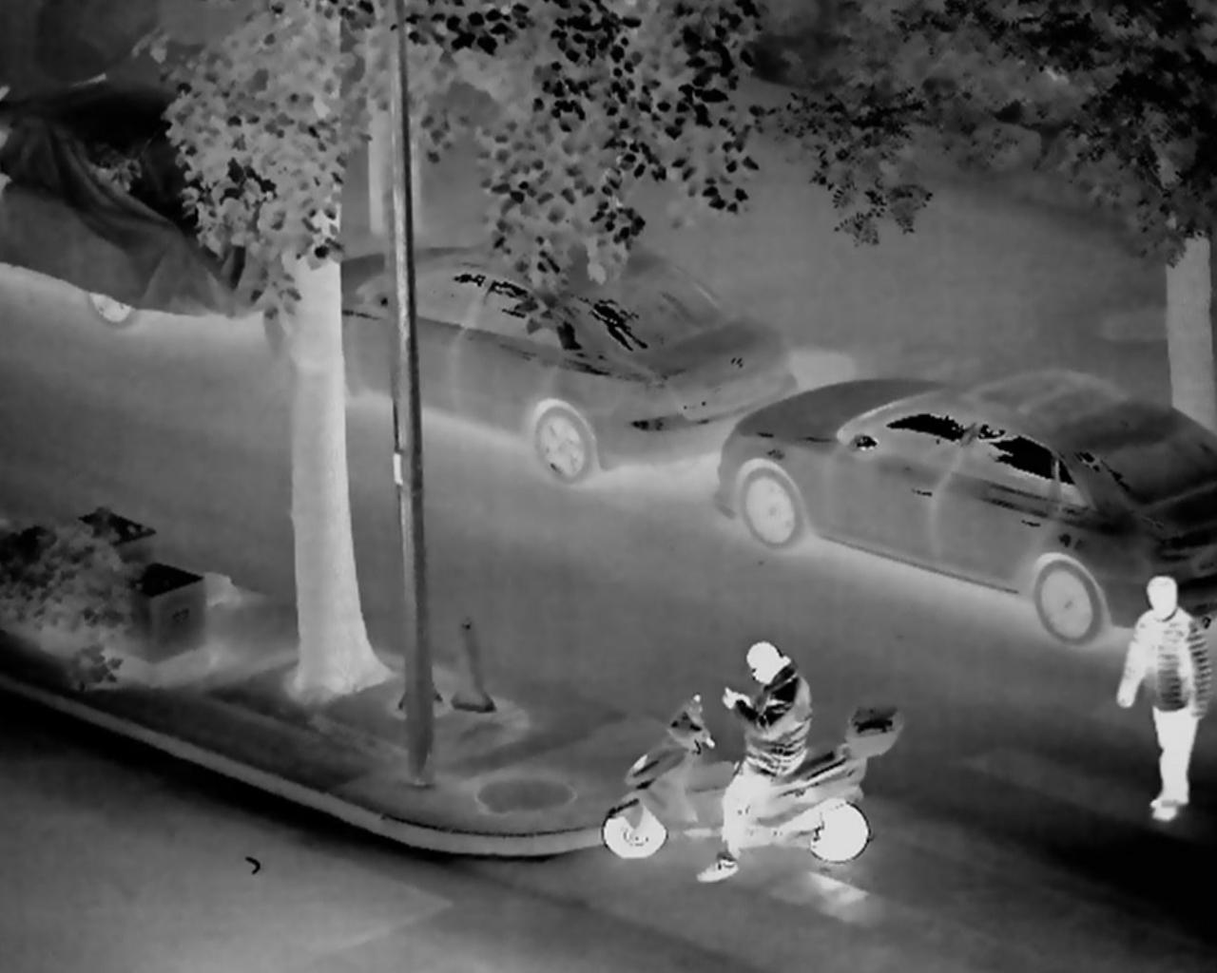person: (691, 626, 831, 888), (1114, 561, 1216, 861)
